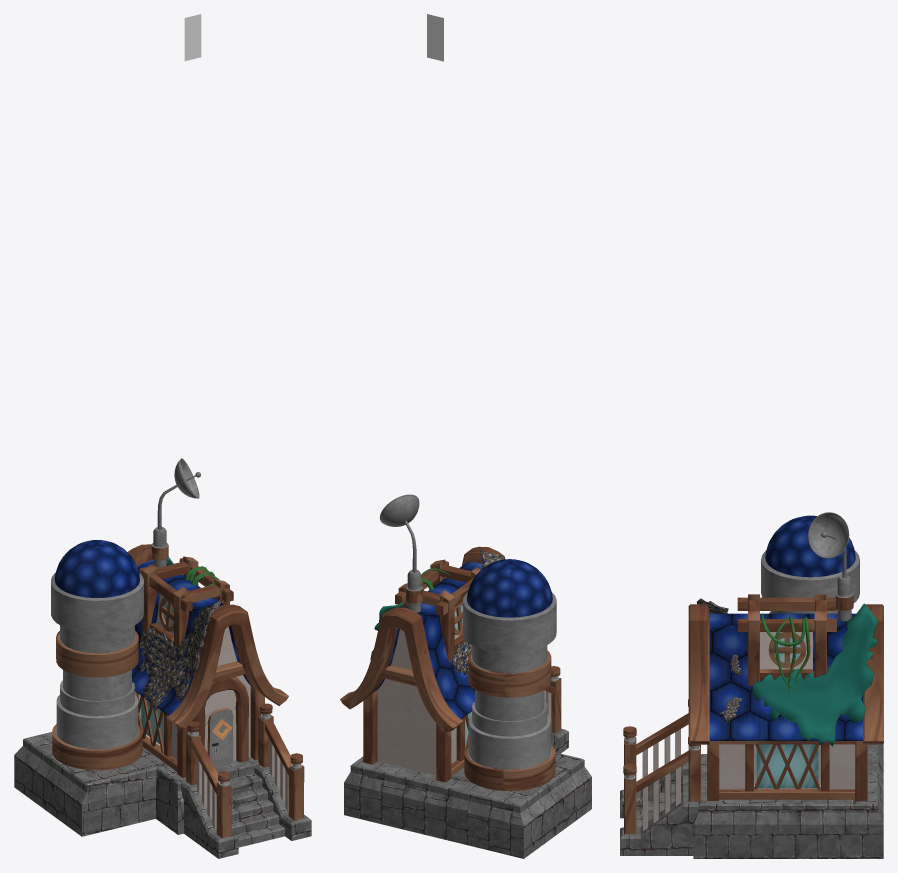
Rendered from House(Textured).fbx.
The picture shows the model from 3 angles, left to right: view 1: azimuth 30°, elevation 25°; view 2: azimuth 150°, elevation 25°; view 3: azimuth 270°, elevation 25°; orthographic projection. The views are drawn at different scales.
Visible parts, largest first — view 1: Cylinder, Cube.003, BézierCurve, Sphere, Plane.013, Cube.012, Cube, Cube.008, Cube.014, Plane, Plane.001, Cube.001 (+8 smaller); view 2: Cube.003, Cylinder, BézierCurve, Cube, Sphere, Cube.001, Sphere.002, Cube.008, Plane.002, Cube.009, Plane.013, Cylinder.001 (+2 smaller); view 3: Cube.003, BézierCurve, Plane.010, Cube.012, Cube, Sphere, Cylinder, Plane.005, Cube.008, Cube.009, Sphere.002, Cube.001 (+10 smaller).
Part boxes in pixels (x1,y1,x2,y2): Cylinder: [51, 573, 143, 770]; Cube.003: [14, 732, 284, 847]; BézierCurve: [127, 544, 288, 729]; Sphere: [54, 540, 139, 597]; Plane.013: [139, 599, 221, 711]; Cube.012: [181, 764, 311, 858]; Cube: [138, 594, 250, 760]; Cube.008: [142, 556, 229, 646]; Cube.014: [216, 765, 304, 837]; Plane: [192, 677, 248, 762]; Plane.001: [207, 708, 233, 767]; Cube.001: [177, 686, 264, 777]; Cube.003: [344, 752, 591, 858]; Cylinder: [463, 592, 556, 790]; BézierCurve: [340, 546, 504, 732]; Cube: [377, 629, 459, 775]; Sphere: [467, 559, 552, 617]; Cube.001: [363, 690, 451, 782]; Sphere.002: [379, 494, 419, 572]; Cube.008: [398, 559, 480, 662]; Plane.002: [427, 14, 443, 61]; Cube.009: [395, 561, 473, 615]; Plane.013: [452, 549, 504, 675]; Cylinder.001: [406, 569, 422, 612]; Cube.003: [636, 743, 883, 858]; BézierCurve: [688, 604, 883, 744]; Plane.010: [752, 603, 877, 746]; Cube.012: [620, 762, 698, 855]; Cube: [719, 632, 855, 789]; Sphere: [765, 515, 855, 577]; Cylinder: [761, 550, 859, 613]; Plane.005: [756, 744, 818, 788]; Cube.008: [748, 594, 826, 685]; Cube.009: [737, 597, 836, 631]; Sphere.002: [807, 512, 849, 577]; Cube.001: [707, 741, 867, 800].
Bounding box in the file's own units: 1368 × 5499 × 1609.
